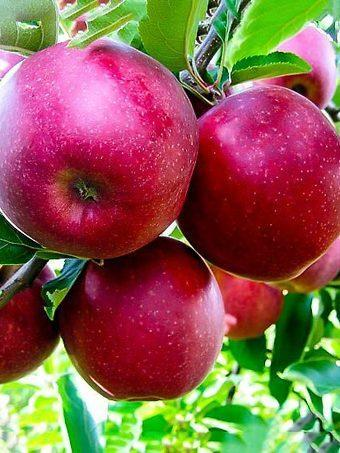apple: (1, 37, 201, 263), (170, 86, 338, 282), (51, 234, 225, 404)
